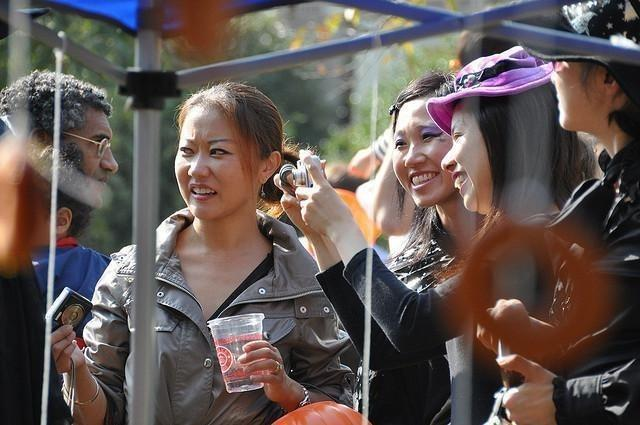cup-disposable: (207, 314, 265, 391)
